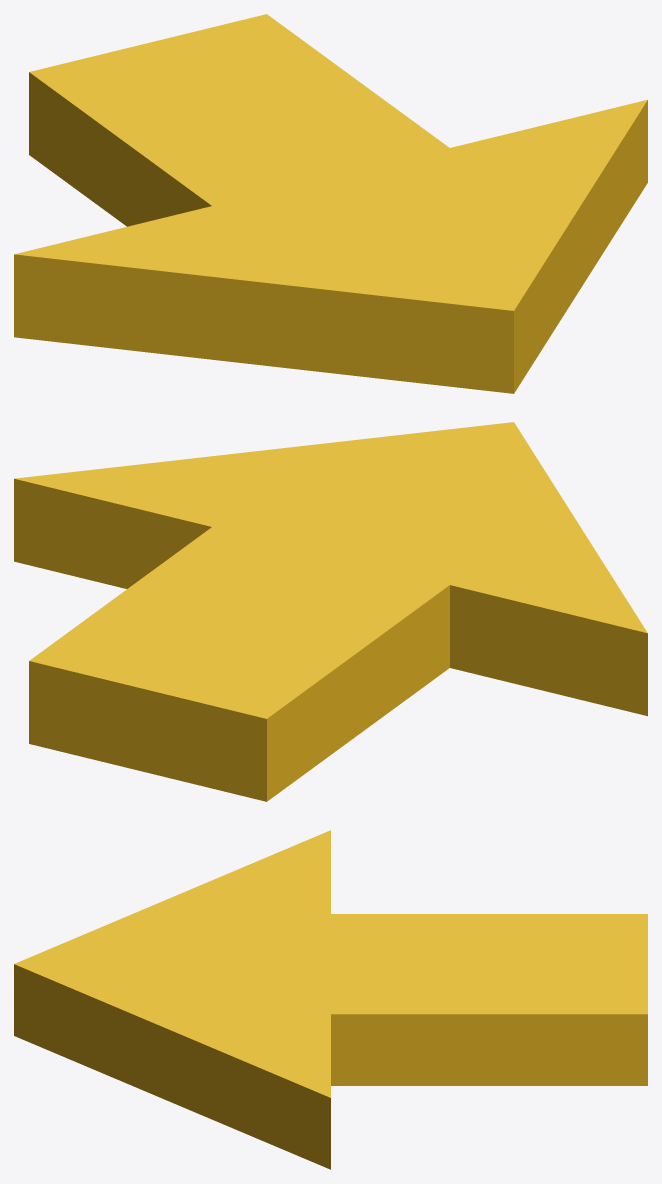
File: Yellow Directional Arrow.glb
3 views of the same model, one above another, from view 1: azimuth 30°, elevation 25°; view 2: azimuth 150°, elevation 25°; view 3: azimuth 270°, elevation 25° (orthographic). The views are drawn at different scales.
Visible parts, largest first — view 1: cube; view 2: cube; view 3: cube.
Part boxes in pixels (x1=…): cube: x1=14, y1=14, x2=647, y2=393; cube: x1=14, y1=422, x2=647, y2=801; cube: x1=14, y1=830, x2=647, y2=1169.
Size of the model in its own units: 1 by 0.125 by 1.
Materials: 1 (1 with a texture image).
